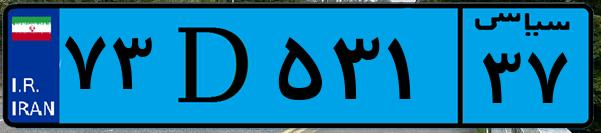1: (385, 28, 445, 110)
3: (330, 28, 385, 110), (475, 38, 525, 113), (110, 28, 158, 98)
5: (270, 28, 330, 110)
7: (57, 26, 110, 100), (525, 38, 570, 115)
D: (158, 12, 270, 120)
